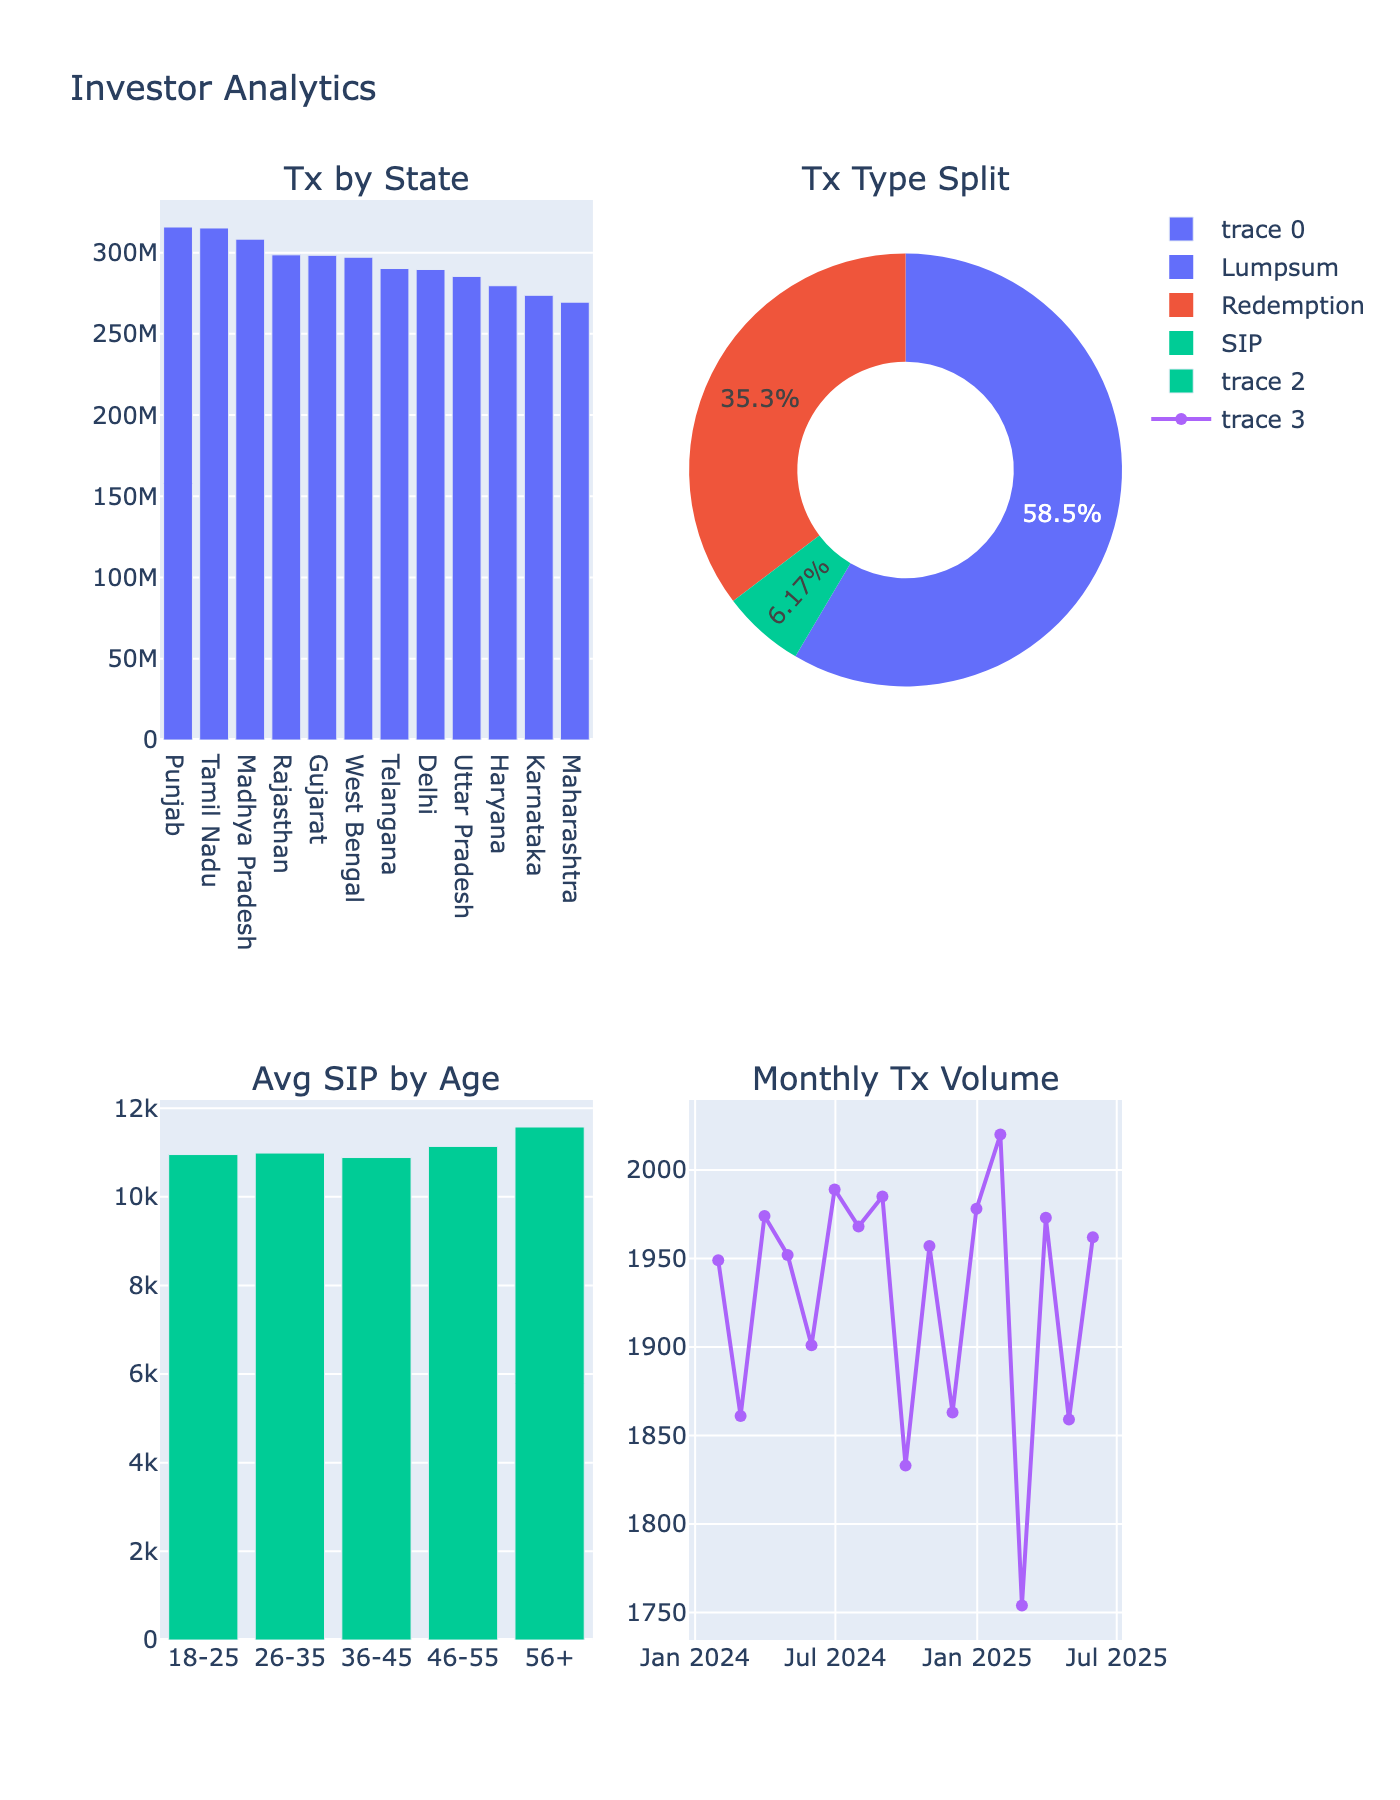

What the dashboard file says about the page in this screenshot:
{"tool":"tableau","page":{"name":"Dashboard 3","canvas":[1000,1000],"units":"permille","ordinal":2},"visuals":[{"type":"title","box":[6.4,11.7,987.3,60]},{"type":"image","param":"/Users/ashi/Downloads/bluestock logo.jpg","box":[6.4,71.7,987.3,60]},{"type":"worksheet","title":"Sheet 10","mark":"Automatic","rows":["state"],"cols":["amount_inr"],"box":[6.4,131.6,430,428.3]},{"type":"worksheet","title":"Sheet 11","mark":"Pie","box":[436.4,131.6,430.1,428.3]},{"type":"legend","title":"Sheet 11","param":"[federated.13nlran1k3vmzi10yy4i4112bc6e].[none:transaction_type:nk]","box":[866.5,131.6,127.2,125.7]},{"type":"filter","title":"Sheet 10","param":"[federated.13nlran1k3vmzi10yy4i4112bc6e].[none:state:nk]","box":[866.5,257.3,127.2,387.4]},{"type":"worksheet","title":"Sheet 12","mark":"Automatic","rows":["age_group"],"cols":["amount_inr"],"box":[6.4,559.9,430,428.4]},{"type":"worksheet","title":"Sheet 13","mark":"Line","rows":["amount_inr"],"cols":["transaction_date"],"box":[436.4,559.9,430.1,428.4]},{"type":"filter","title":"Sheet 12","param":"[federated.13nlran1k3vmzi10yy4i4112bc6e].[none:age_group:nk]","box":[866.5,644.7,127.2,213.5]},{"type":"filter","title":"Sheet 13","param":"[federated.13nlran1k3vmzi10yy4i4112bc6e].[none:city_tier:nk]","box":[866.5,858.2,127.2,130.1]}]}

Visuals, with their boxes on the dashboard's canvas, which has no fixed pixel size, in thousandths of its width and height (x1, y1, x2, y2). These are canvas units, not pixel positions in the 1400x1800 screenshot, which may show the page scaled, cropped or inside an application window:
title: <box>6,12,994,72</box>
image: <box>6,72,994,132</box>
"Sheet 10" worksheet: <box>6,132,436,560</box>
"Sheet 11" worksheet (Pie marks): <box>436,132,866,560</box>
"Sheet 11" legend: <box>866,132,994,257</box>
"Sheet 10" filter: <box>866,257,994,645</box>
"Sheet 12" worksheet: <box>6,560,436,988</box>
"Sheet 13" worksheet (Line marks): <box>436,560,866,988</box>
"Sheet 12" filter: <box>866,645,994,858</box>
"Sheet 13" filter: <box>866,858,994,988</box>
